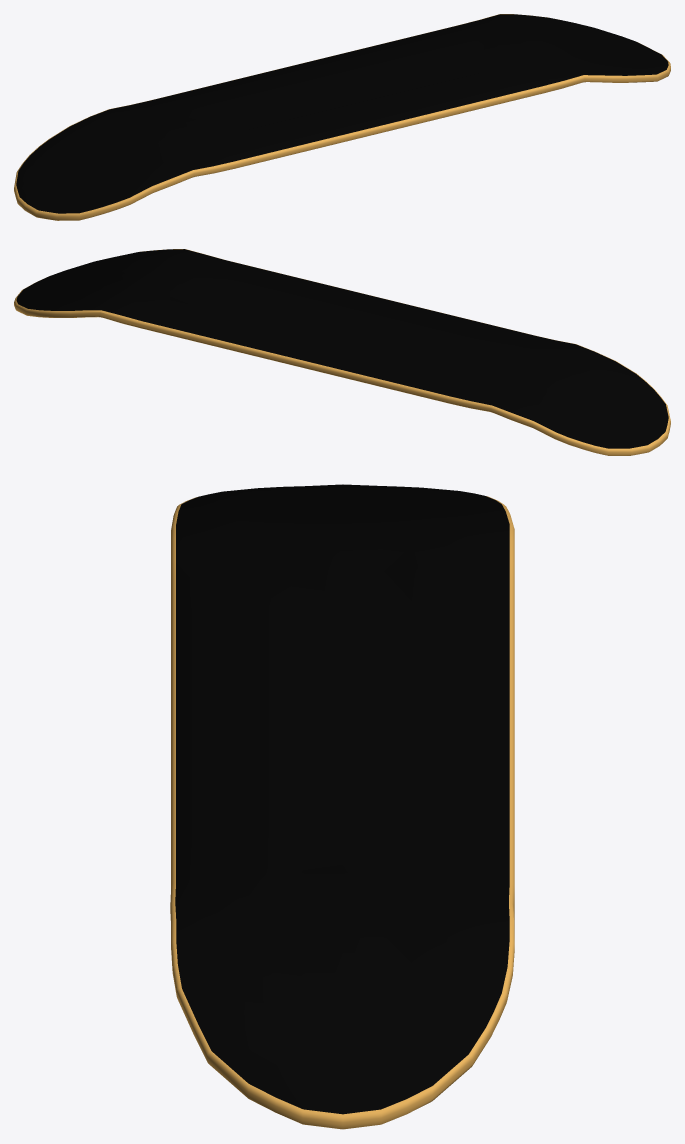
File: deck-mit-uv.gltf
The picture shows the model from 3 angles, top to bottom: view 1: azimuth 30°, elevation 25°; view 2: azimuth 150°, elevation 25°; view 3: azimuth 270°, elevation 25°; orthographic projection. The views are drawn at different scales.
Parts seen in each view (by area): view 1: Cube; view 2: Cube; view 3: Cube.
Boxes of the visible parts, box(x1,y1,x2,y2) form: Cube: box(14, 14, 670, 220); Cube: box(14, 249, 670, 455); Cube: box(170, 484, 514, 1129).
Size of the model in its own units: 3.92 by 0.2917 by 0.9158.
2 materials, 1 textured.
